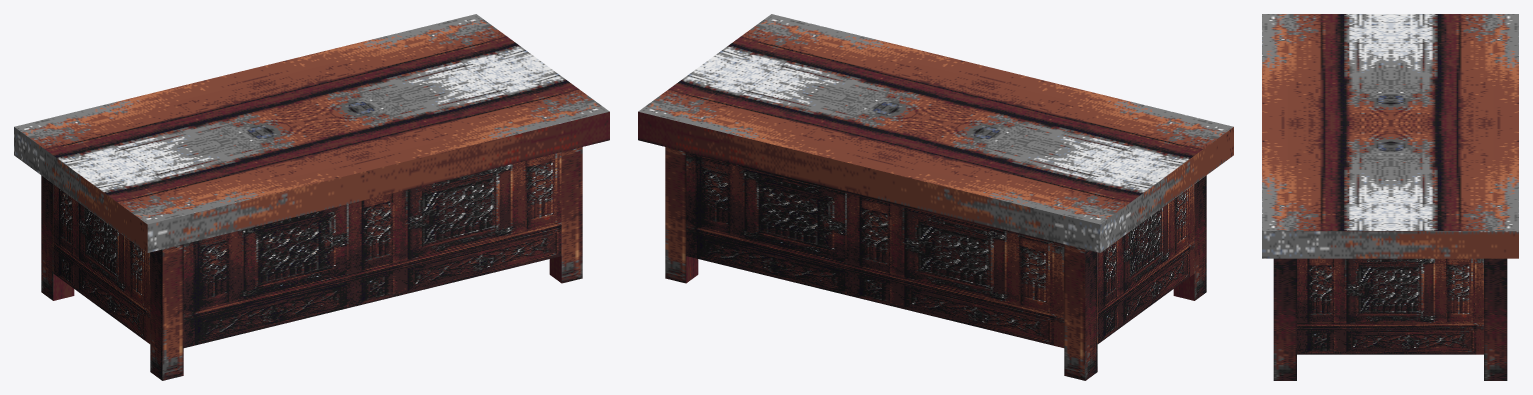
File: cabinet_style_1.fbx
3 views of the same model, side by side, from view 1: azimuth 30°, elevation 25°; view 2: azimuth 150°, elevation 25°; view 3: azimuth 270°, elevation 25° (orthographic). The views are drawn at different scales.
Parts seen in each view (by area): view 1: cabinet; view 2: cabinet; view 3: cabinet.
Part boxes in pixels (left/top/right/bottom): cabinet: left=14, top=14, right=609, bottom=380; cabinet: left=638, top=14, right=1233, bottom=380; cabinet: left=1262, top=14, right=1518, bottom=380.
Bounding box in the file's own units: 440 × 151 × 220.
